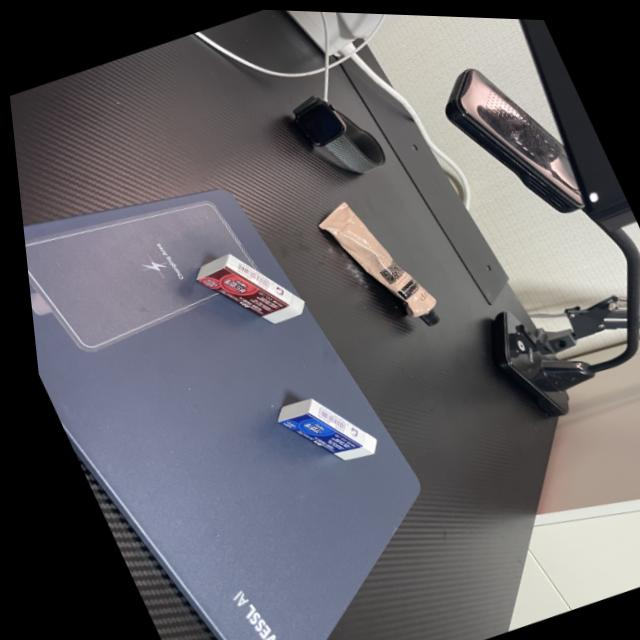blue: (252, 369, 385, 485)
red: (167, 227, 315, 351)
